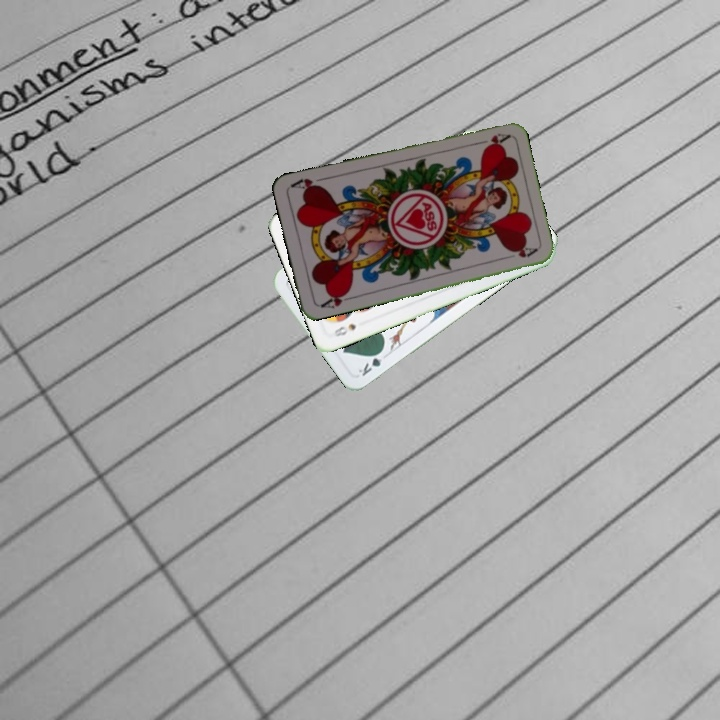GK: (354, 346, 386, 379)
HA: (316, 287, 355, 311), (471, 129, 511, 151)
S8: (330, 319, 359, 339)
